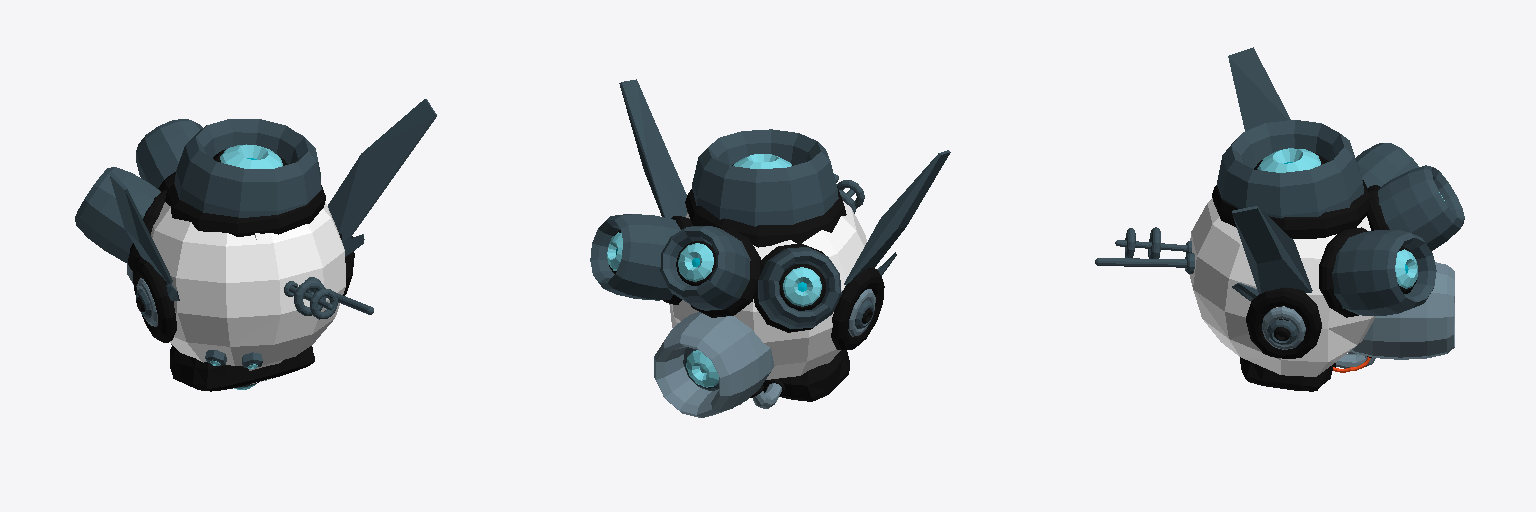
The model's file is drone.obj.
The picture shows the model from 3 angles: view 1: azimuth 30°, elevation 25°; view 2: azimuth 150°, elevation 25°; view 3: azimuth 270°, elevation 25°; orthographic projection.
Visible parts, largest first — view 1: mesh[number redacted], mesh[number redacted], mesh[number redacted], mesh[number redacted], mesh[number redacted], mesh[number redacted], mesh[number redacted], mesh[number redacted], mesh[number redacted], mesh[number redacted], mesh[number redacted], mesh[number redacted]; view 2: mesh[number redacted], mesh[number redacted], mesh[number redacted], mesh[number redacted], mesh[number redacted], mesh[number redacted], mesh[number redacted], mesh[number redacted], mesh[number redacted], mesh[number redacted], mesh[number redacted], mesh[number redacted] (+5 smaller); view 3: mesh[number redacted], mesh[number redacted], mesh[number redacted], mesh[number redacted], mesh[number redacted], mesh[number redacted], mesh[number redacted], mesh[number redacted], mesh[number redacted], mesh[number redacted], mesh[number redacted], mesh[number redacted] (+7 smaller).
Boxes of the visible parts, <box> form: mesh[number redacted]: <box>151,202,345,365</box>; mesh[number redacted]: <box>174,119,321,217</box>; mesh[number redacted]: <box>328,99,436,240</box>; mesh[number redacted]: <box>75,167,160,262</box>; mesh[number redacted]: <box>170,233,314,391</box>; mesh[number redacted]: <box>165,183,325,236</box>; mesh[number redacted]: <box>136,119,202,188</box>; mesh[number redacted]: <box>109,172,172,283</box>; mesh[number redacted]: <box>133,258,176,342</box>; mesh[number redacted]: <box>284,280,337,319</box>; mesh[number redacted]: <box>213,144,287,168</box>; mesh[number redacted]: <box>128,190,166,270</box>; mesh[number redacted]: <box>692,129,838,226</box>; mesh[number redacted]: <box>654,312,774,417</box>; mesh[number redacted]: <box>669,201,866,379</box>; mesh[number redacted]: <box>590,214,680,300</box>; mesh[number redacted]: <box>660,226,750,310</box>; mesh[number redacted]: <box>619,79,687,218</box>; mesh[number redacted]: <box>758,247,841,328</box>; mesh[number redacted]: <box>844,150,950,284</box>; mesh[number redacted]: <box>685,186,846,247</box>; mesh[number redacted]: <box>831,268,884,349</box>; mesh[number redacted]: <box>763,350,849,401</box>; mesh[number redacted]: <box>779,264,825,310</box>; mesh[number redacted]: <box>1189,198,1375,376</box>; mesh[number redacted]: <box>1217,120,1363,218</box>; mesh[number redacted]: <box>1332,230,1436,315</box>; mesh[number redacted]: <box>1351,262,1454,359</box>; mesh[number redacted]: <box>1378,165,1464,251</box>; mesh[number redacted]: <box>1232,206,1312,293</box>; mesh[number redacted]: <box>1228,47,1290,130</box>; mesh[number redacted]: <box>1246,287,1321,358</box>; mesh[number redacted]: <box>1212,180,1370,238</box>; mesh[number redacted]: <box>1356,143,1418,187</box>; mesh[number redacted]: <box>1240,357,1332,391</box>; mesh[number redacted]: <box>1319,227,1367,317</box>.
Size of the model in its own units: 2.82 by 2.22 by 2.83.